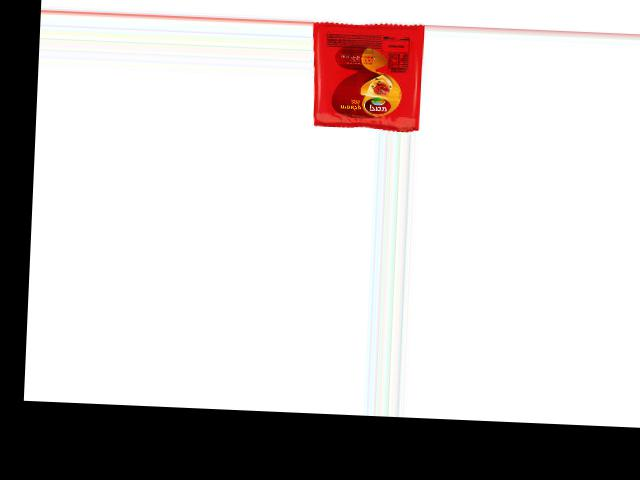cheese: (312, 19, 425, 131)
